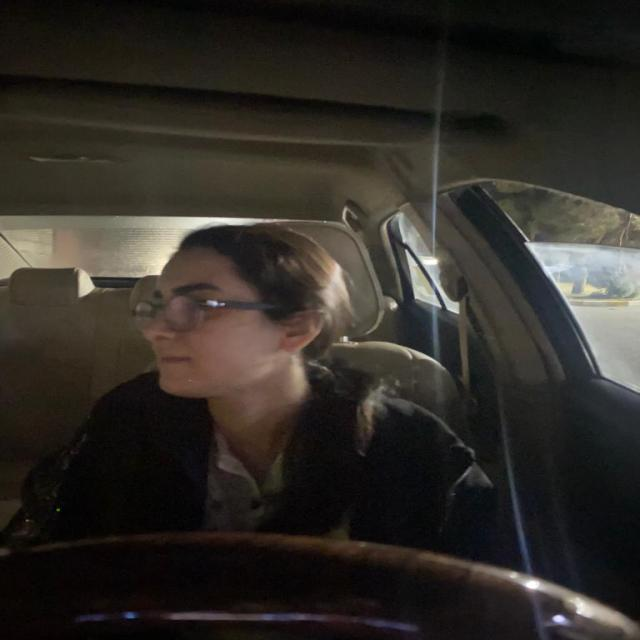LeftRight: (126, 224, 366, 409)
